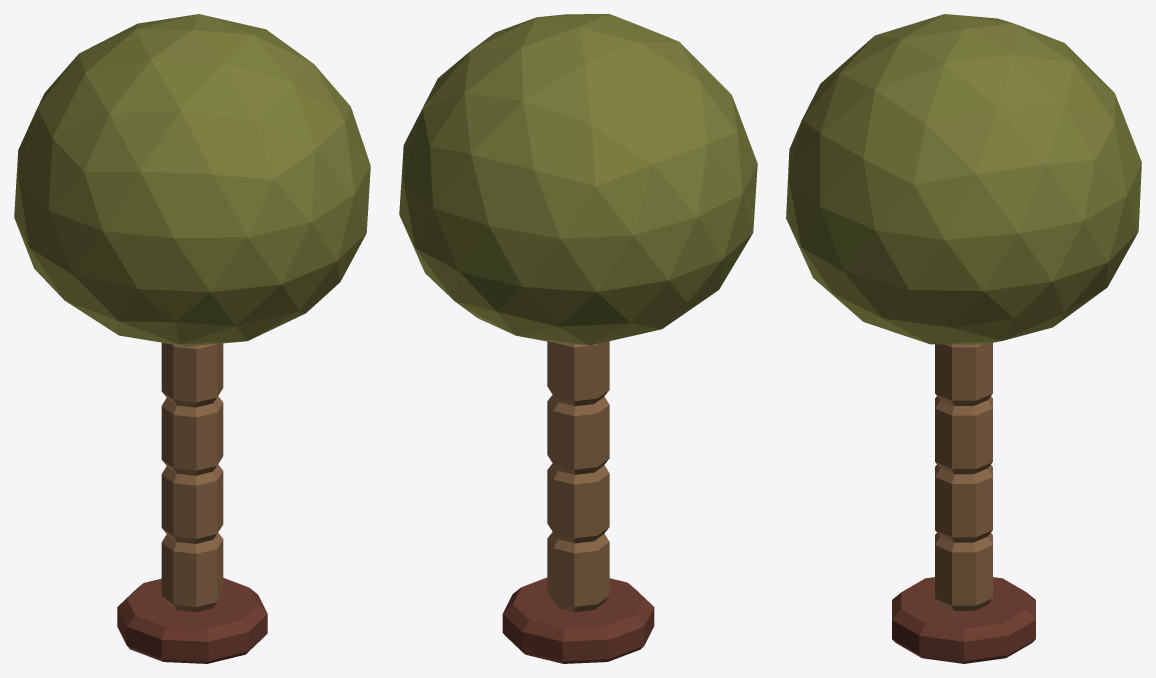
Rendered from lollipop-toy-tree-2cf8d2.glb.
3 renders of one model, left to right at view 1: azimuth 30°, elevation 25°; view 2: azimuth 150°, elevation 25°; view 3: azimuth 270°, elevation 25°, orthographic.
Parts seen in each view (by area): view 1: tree; view 2: tree; view 3: tree.
Boxes of the visible parts, x1=… form: tree: x1=14, y1=14, x2=370, y2=663; tree: x1=399, y1=14, x2=757, y2=663; tree: x1=786, y1=14, x2=1141, y2=663.
Bounding box in the file's own units: 2.15 × 4.05 × 2.16.
